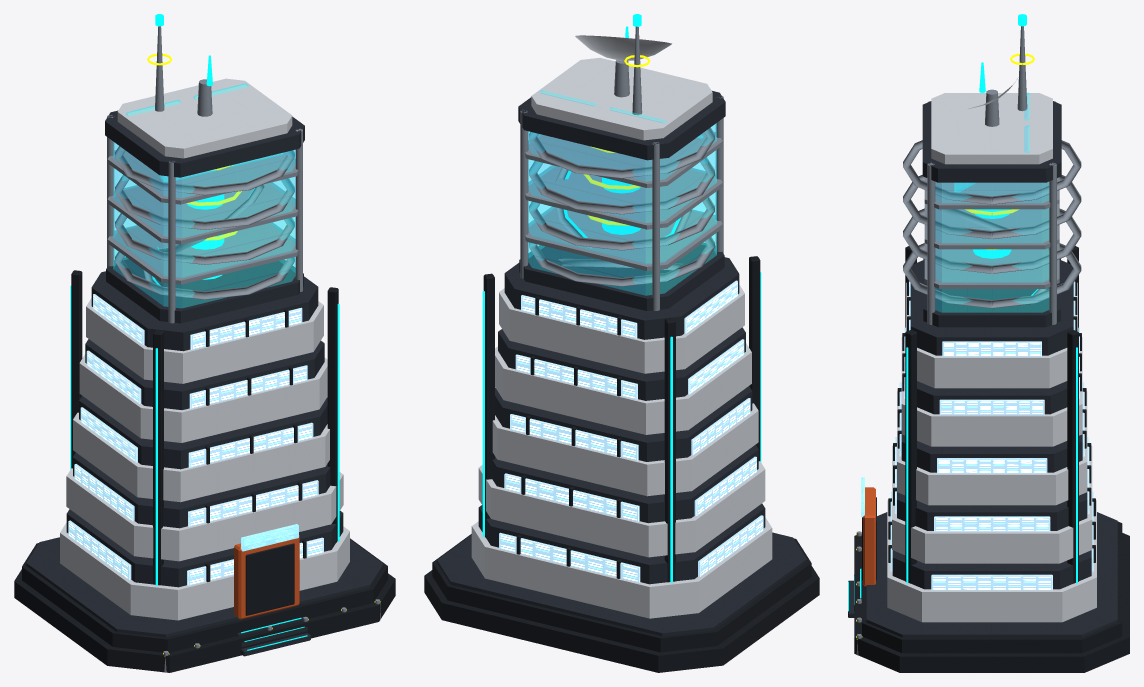
File: bldg_15_r1_01.glb
3 views of the same model, side by side, from view 1: azimuth 30°, elevation 25°; view 2: azimuth 150°, elevation 25°; view 3: azimuth 270°, elevation 25° (orthographic). The views are drawn at different scales.
Visible parts, largest first — view 1: Bldg15_C01_aero_white, Bldg15_C01_carbon_slate, Bldg15_C01_steel_machined, Bldg15_C01_gunmetal, Bldg15_C01_glass_cyan, Bldg15_C01_window_lit, Bldg15_C01_led_cyan, Bldg15_C01_accent_orange, Bldg15_C01_marquee; view 2: Bldg15_C01_aero_white, Bldg15_C01_carbon_slate, Bldg15_C01_steel_machined, Bldg15_C01_gunmetal, Bldg15_C01_glass_cyan, Bldg15_C01_window_lit, Bldg15_C01_led_cyan; view 3: Bldg15_C01_aero_white, Bldg15_C01_carbon_slate, Bldg15_C01_steel_machined, Bldg15_C01_gunmetal, Bldg15_C01_glass_cyan, Bldg15_C01_window_lit, Bldg15_C01_led_cyan, Bldg15_C01_accent_orange.
Boxes of the visible parts, x1,y1,x2,y2 form: Bldg15_C01_aero_white: (60,78,349,620); Bldg15_C01_carbon_slate: (26,110,383,656); Bldg15_C01_steel_machined: (107,26,380,672); Bldg15_C01_gunmetal: (14,270,395,672); Bldg15_C01_glass_cyan: (113,83,295,307); Bldg15_C01_window_lit: (68,294,323,585); Bldg15_C01_led_cyan: (70,14,339,650); Bldg15_C01_accent_orange: (234,535,299,619); Bldg15_C01_marquee: (241,524,298,551); Bldg15_C01_aero_white: (471,35,772,618); Bldg15_C01_carbon_slate: (437,91,806,636); Bldg15_C01_steel_machined: (520,26,723,310); Bldg15_C01_gunmetal: (424,256,819,672); Bldg15_C01_glass_cyan: (528,90,716,295); Bldg15_C01_window_lit: (499,280,763,582); Bldg15_C01_led_cyan: (482,14,761,582); Bldg15_C01_aero_white: (887,74,1096,622); Bldg15_C01_carbon_slate: (848,101,1117,637); Bldg15_C01_steel_machined: (856,26,1081,655); Bldg15_C01_gunmetal: (854,246,1129,672); Bldg15_C01_glass_cyan: (935,92,1048,312); Bldg15_C01_window_lit: (890,281,1093,590); Bldg15_C01_led_cyan: (848,14,1077,611); Bldg15_C01_accent_orange: (863,487,875,586).
Bounding box in the file's own units: 12 × 22.92 × 10.23.
10 materials, 10 textured.
